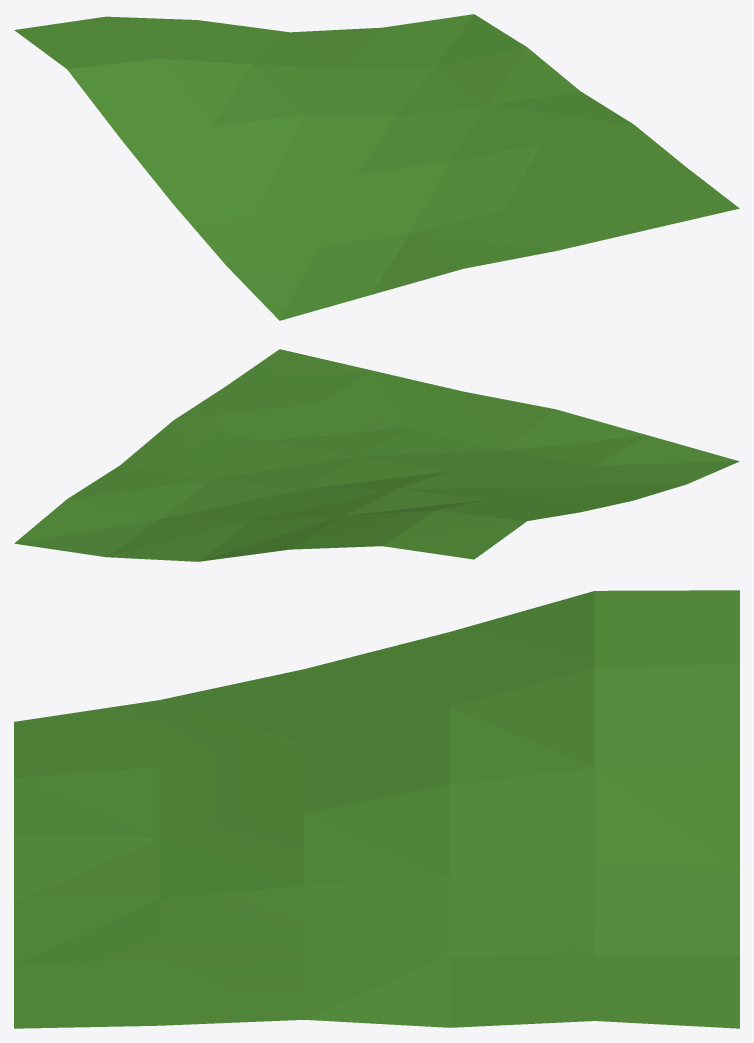
Rendered from terrains_terrain-plane-hill3.fbx.
3 renders of one model, top to bottom at view 1: azimuth 30°, elevation 25°; view 2: azimuth 150°, elevation 25°; view 3: azimuth 270°, elevation 25°, orthographic. The views are drawn at different scales.
Visible parts, largest first — view 1: terrains_terrain_plane_hill3; view 2: terrains_terrain_plane_hill3; view 3: terrains_terrain_plane_hill3.
Boxes of the visible parts, <box> form: terrains_terrain_plane_hill3: <box>14,14,739,320</box>; terrains_terrain_plane_hill3: <box>14,349,739,561</box>; terrains_terrain_plane_hill3: <box>14,590,739,1028</box>.
Size of the model in its own units: 200 by 40 by 200.
